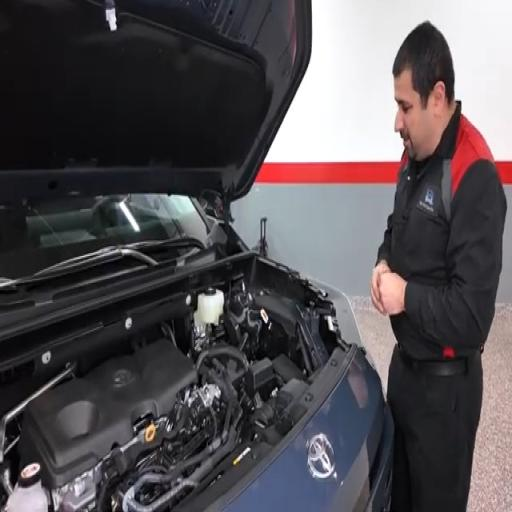bumper: (222, 350, 394, 511), (365, 404, 394, 511)
emblem: (307, 434, 335, 479)
hood: (0, 0, 311, 200)
windshield: (0, 194, 207, 278)
